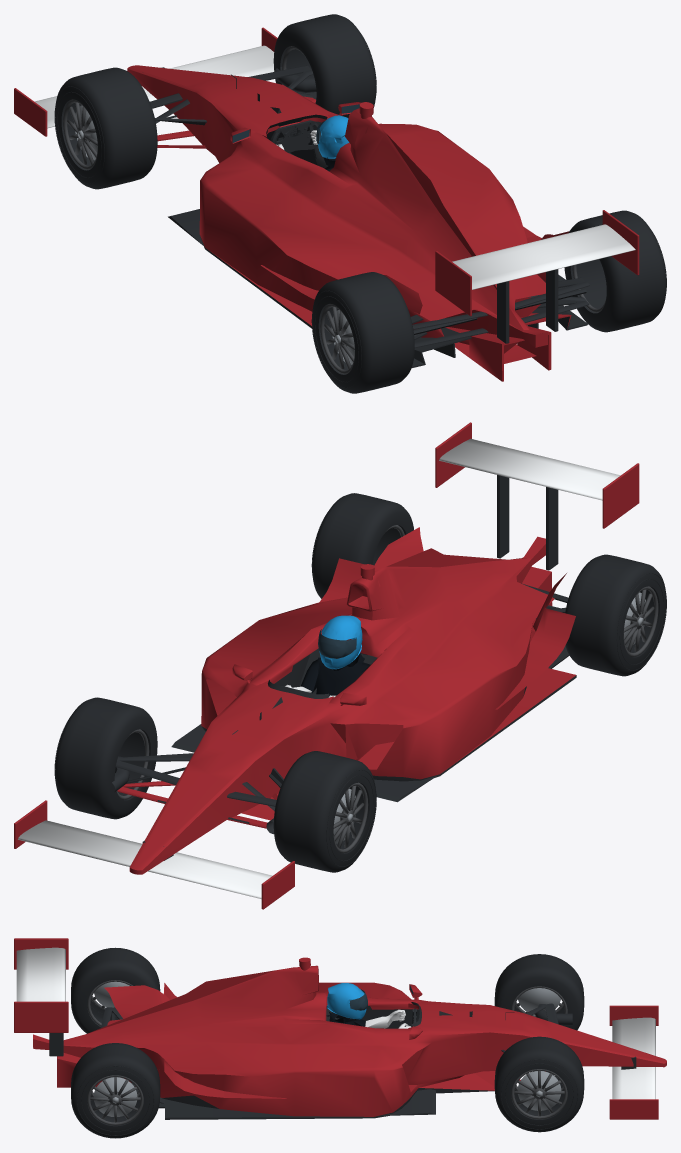
Rendered from open_wheel.glb.
The picture shows the model from 3 angles, top to bottom: view 1: azimuth 30°, elevation 25°; view 2: azimuth 150°, elevation 25°; view 3: azimuth 270°, elevation 25°; orthographic projection. The views are drawn at different scales.
Parts seen in each view (by area): view 1: Nose, WheelFrontLeft, WheelRearLeft, ChassisDetails_Carbon, WheelRearRight, WheelFrontRight, RearWing, FrontWing, RimAssemblyFrontLeft, RimAssemblyRearLeft, RearEndplateLeft, RearGearboxCover (+5 smaller); view 2: Nose, WheelFrontRight, WheelFrontLeft, WheelRearLeft, ChassisDetails_Carbon, WheelRearRight, FrontWing, RearWing, SidepodExit_047, RimAssemblyRearLeft, RimAssemblyFrontLeft, SidepodExit_045 (+5 smaller); view 3: Nose, WheelFrontRight, WheelRearRight, WheelRearLeft, WheelFrontLeft, ChassisDetails_Carbon, FrontWing, RearWing, RimAssemblyRearRight, RimAssemblyFrontRight, RearEndplateRight, SidepodExit_047 (+8 smaller).
Part boxes in pixels (x1,y1,x2,y2): Nose: [127, 65, 587, 381]; WheelFrontLeft: [55, 67, 157, 189]; WheelRearLeft: [312, 272, 414, 393]; ChassisDetails_Carbon: [150, 65, 589, 367]; WheelRearRight: [564, 210, 666, 332]; WheelFrontRight: [273, 14, 376, 117]; RearWing: [452, 224, 635, 289]; FrontWing: [34, 45, 274, 128]; RimAssemblyFrontLeft: [54, 86, 104, 183]; RimAssemblyRearLeft: [311, 290, 361, 388]; RearEndplateLeft: [435, 251, 471, 316]; RearGearboxCover: [445, 310, 547, 347]; Nose: [117, 548, 576, 874]; WheelFrontRight: [55, 697, 157, 819]; WheelFrontLeft: [273, 751, 376, 872]; WheelRearLeft: [565, 554, 666, 676]; ChassisDetails_Carbon: [112, 475, 569, 860]; WheelRearRight: [312, 493, 413, 598]; FrontWing: [18, 820, 272, 898]; RearWing: [439, 438, 620, 500]; SidepodExit_047: [495, 573, 575, 709]; RimAssemblyRearLeft: [616, 573, 666, 670]; RimAssemblyFrontLeft: [326, 769, 376, 866]; SidepodExit_045: [319, 527, 423, 602]; Nose: [57, 965, 666, 1119]; WheelFrontRight: [494, 1036, 584, 1132]; WheelRearRight: [71, 1043, 160, 1138]; WheelRearLeft: [71, 947, 160, 1033]; WheelFrontLeft: [494, 954, 584, 1030]; ChassisDetails_Carbon: [49, 1003, 636, 1115]; FrontWing: [612, 1017, 655, 1099]; RearWing: [16, 947, 65, 1001]; RimAssemblyRearRight: [77, 1065, 154, 1135]; RimAssemblyFrontRight: [501, 1059, 578, 1129]; RearEndplateRight: [14, 1001, 68, 1032]; SidepodExit_047: [104, 983, 177, 1018].
Bounding box in the file's own units: 2 × 1 × 4.78.
10 materials, 2 textured.
